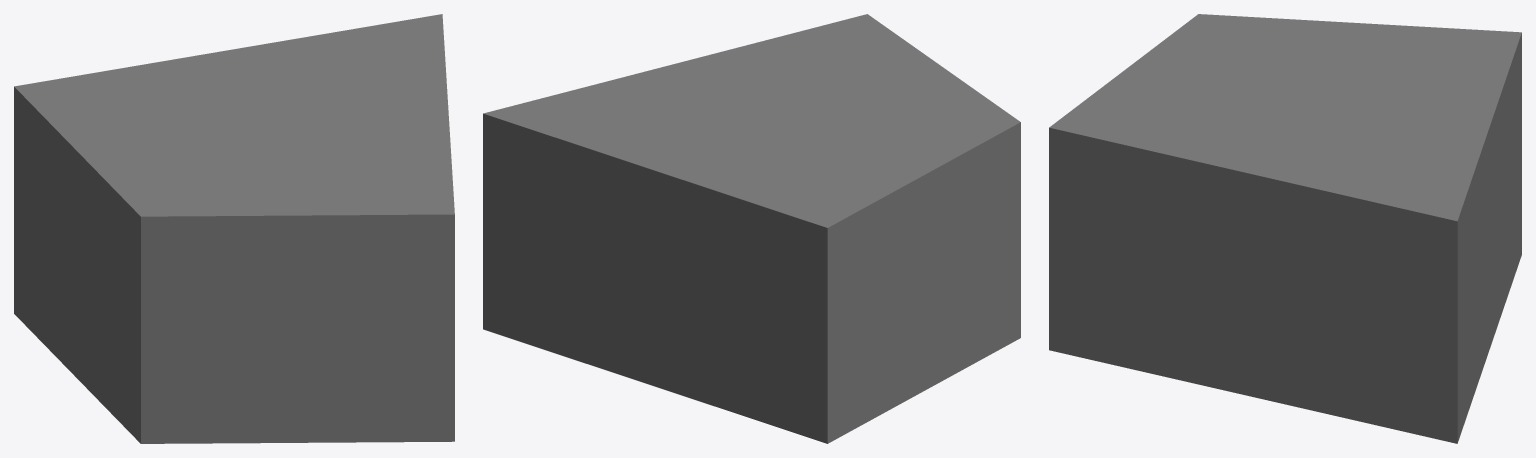
The model's file is base_destroyed_4.glb.
3 views of the same model, side by side, from view 1: azimuth 30°, elevation 25°; view 2: azimuth 150°, elevation 25°; view 3: azimuth 270°, elevation 25° (orthographic). The views are drawn at different scales.
Parts seen in each view (by area): view 1: base_destroyed_4; view 2: base_destroyed_4; view 3: base_destroyed_4.
Boxes of the visible parts, box(x1,y1,x2,y2) form: base_destroyed_4: box(14, 14, 454, 443); base_destroyed_4: box(483, 14, 1020, 443); base_destroyed_4: box(1049, 14, 1521, 443).
Bounding box in the file's own units: 0.3996 × 0.2 × 0.385.
Materials: 1 (1 with a texture image).
